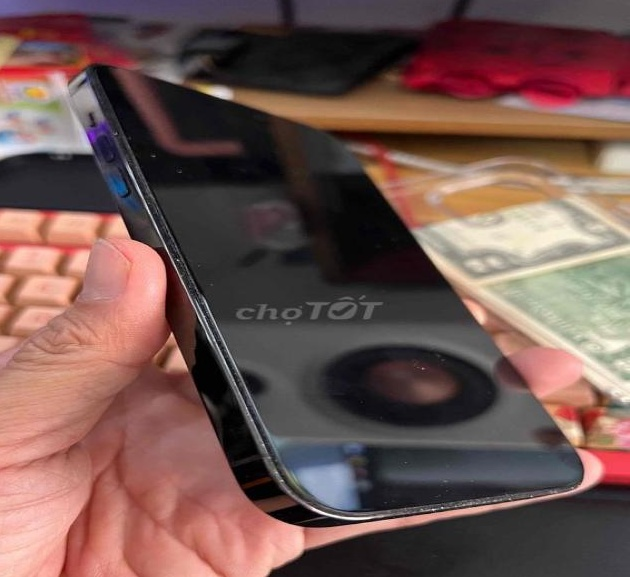scratch: (122, 148, 200, 311), (244, 396, 312, 527), (368, 487, 601, 524)
